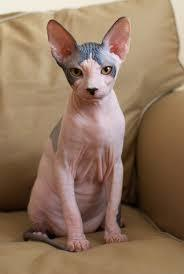cat: (21, 14, 131, 252)
